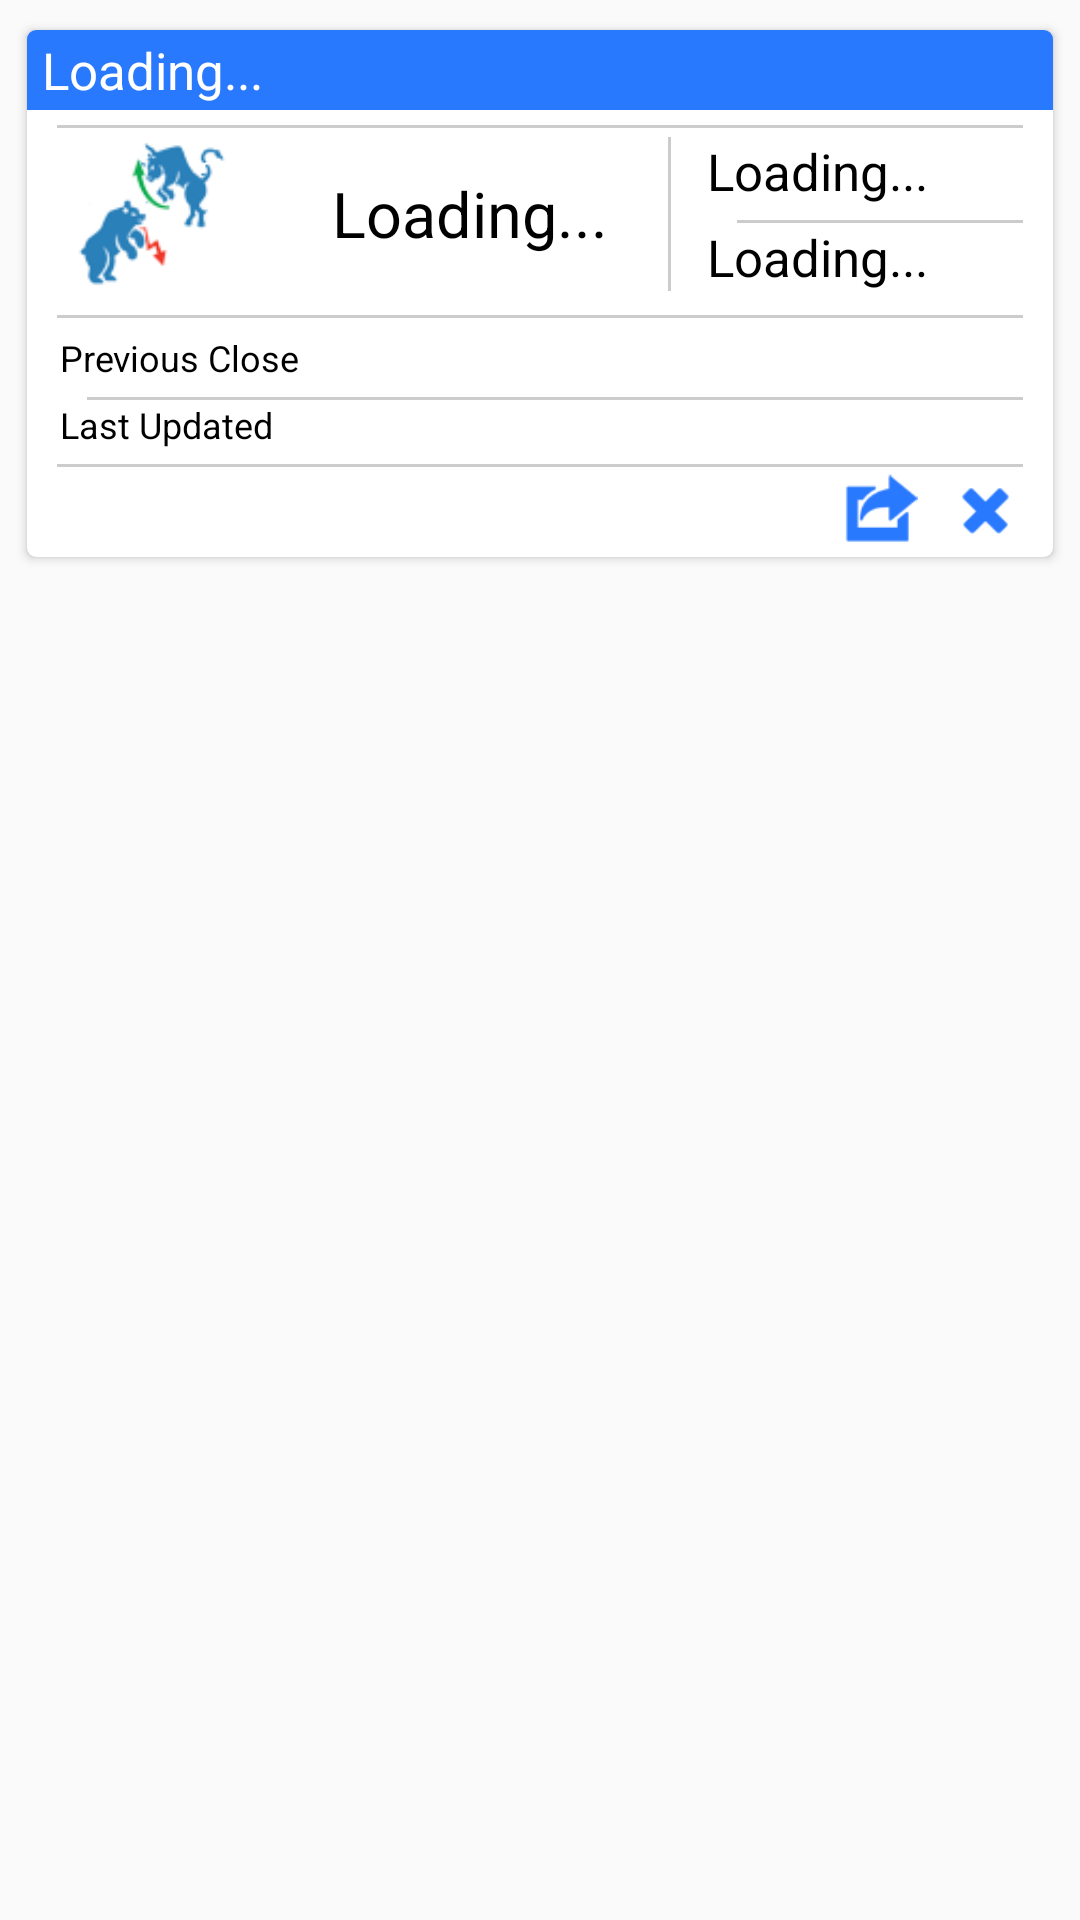

Named icons in this screenshot (1080 × 1920) and their centers, point (x, y):
delete: point (985, 511)
share: point (882, 508)
updownmarket both: point (151, 214)
